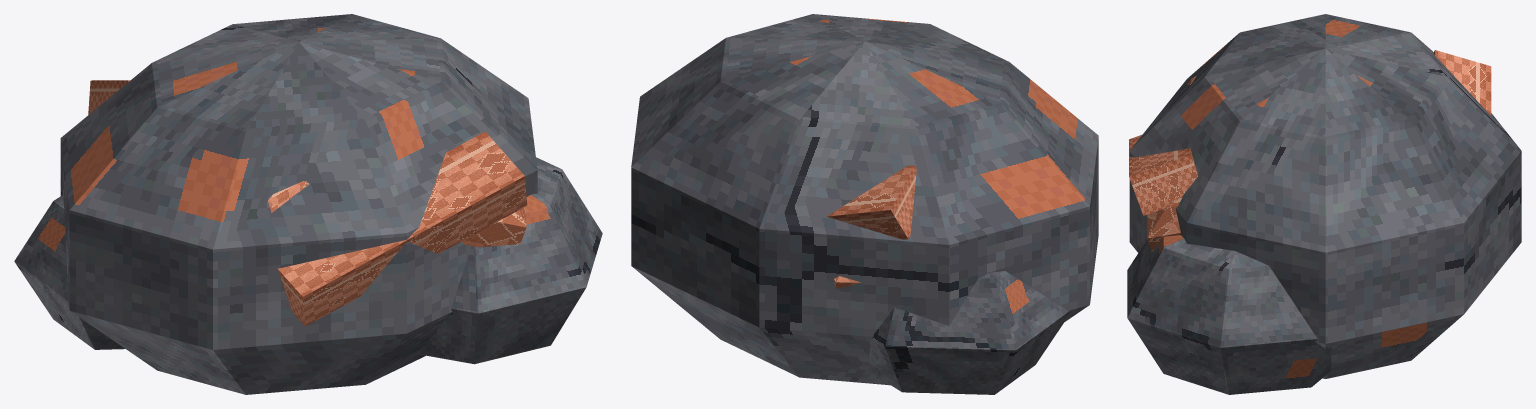
File: minerio_de_ferro.glb
3 renders of one model, left to right at view 1: azimuth 30°, elevation 25°; view 2: azimuth 150°, elevation 25°; view 3: azimuth 270°, elevation 25°, orthographic. The views are drawn at different scales.
Visible parts, largest first — view 1: minerio_de_ferro; view 2: minerio_de_ferro; view 3: minerio_de_ferro.
Boxes of the visible parts, <box> form: minerio_de_ferro: <box>14,14,602,394</box>; minerio_de_ferro: <box>631,14,1098,394</box>; minerio_de_ferro: <box>1127,14,1521,394</box>.
Size of the model in its own units: 1.02 by 0.6642 by 0.8026.
Materials: 1 (1 with a texture image).
